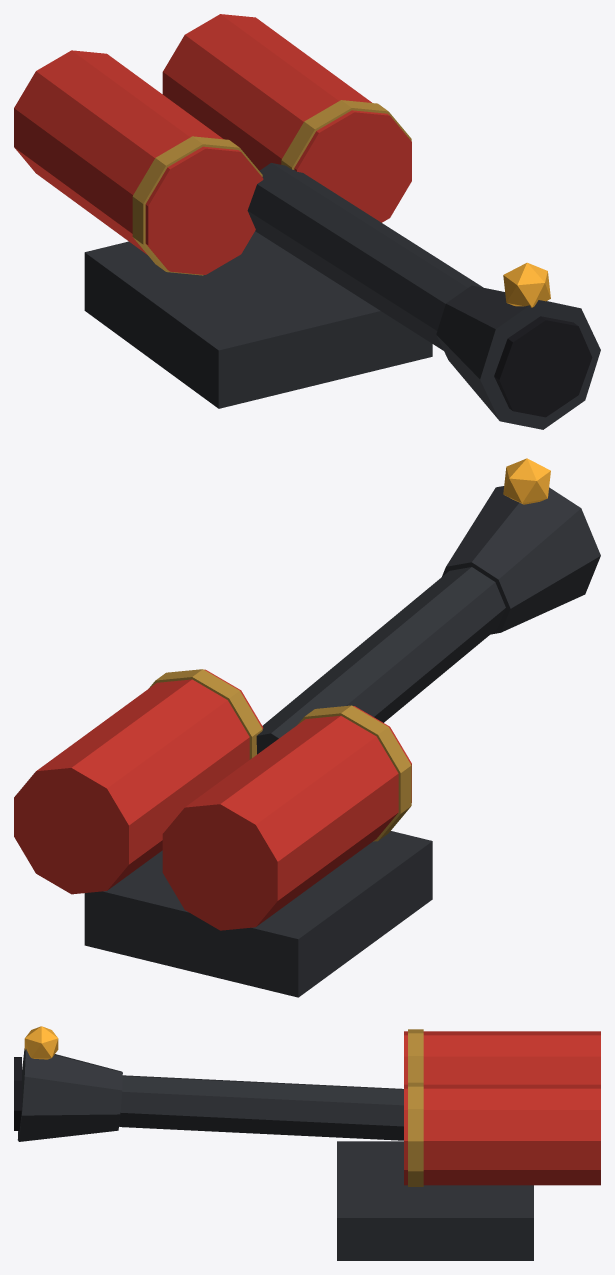
Rendered from FlameHead.obj.
3 views of the same model, one above another, from view 1: azimuth 30°, elevation 25°; view 2: azimuth 150°, elevation 25°; view 3: azimuth 270°, elevation 25° (orthographic). The views are drawn at different scales.
Visible parts, largest first — view 1: FlameHead; view 2: FlameHead; view 3: FlameHead.
Boxes of the visible parts, x1=… form: FlameHead: x1=14, y1=14, x2=600, y2=429; FlameHead: x1=14, y1=458, x2=600, y2=997; FlameHead: x1=14, y1=1026, x2=600, y2=1260.
Size of the model in its own units: 0.5768 by 0.55 by 1.49.
